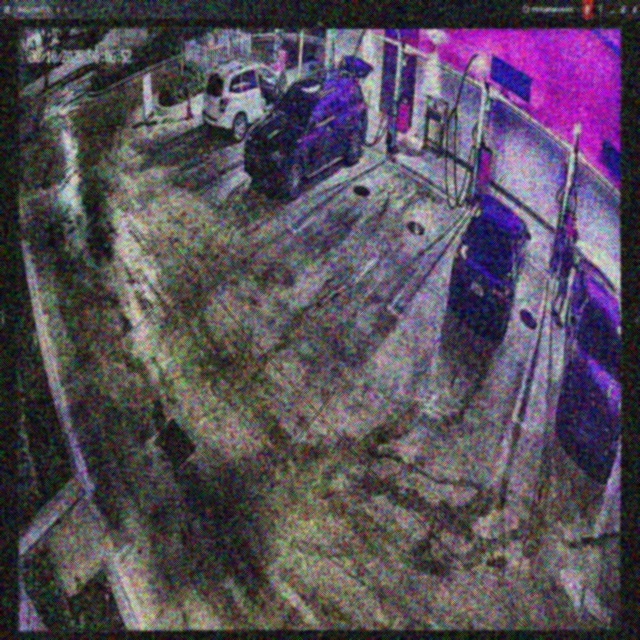Car: (246, 73, 369, 199), (449, 195, 531, 334), (205, 60, 295, 140)
